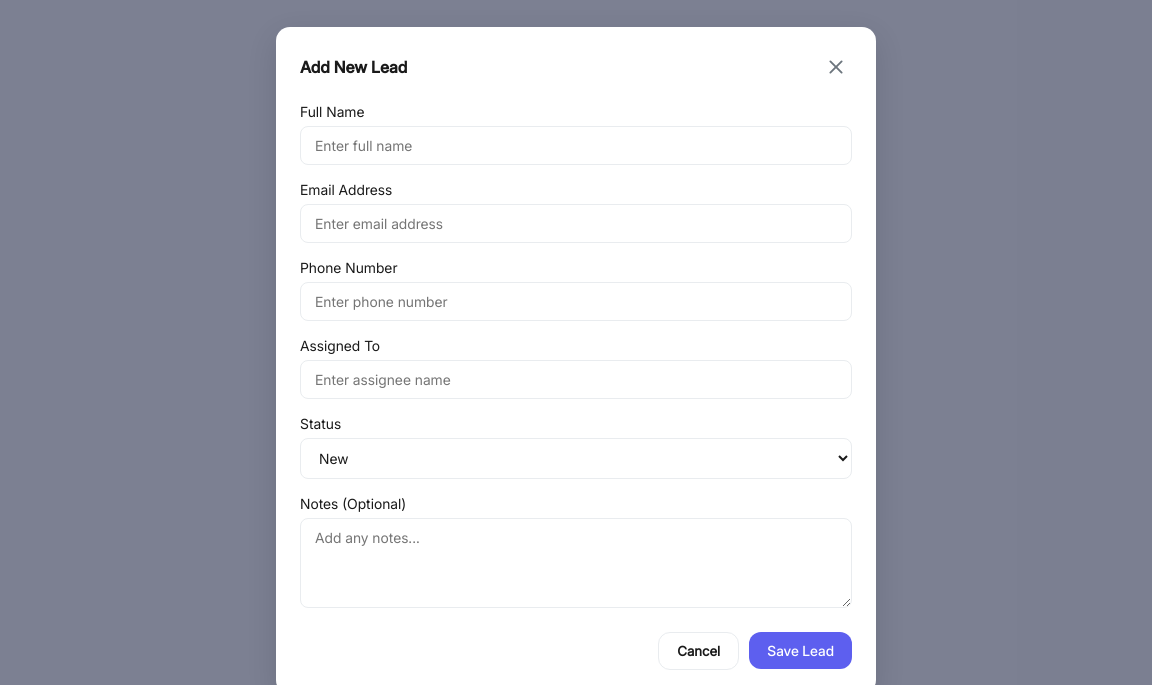
Scenario: the server message is shown when the lead is rejected, and the form stays open
This screenshot has width=1152, height=685.
Type "Ada Lovelace" into the field labelled "Full Name" at x=576, y=145, box [300,126,852,164]
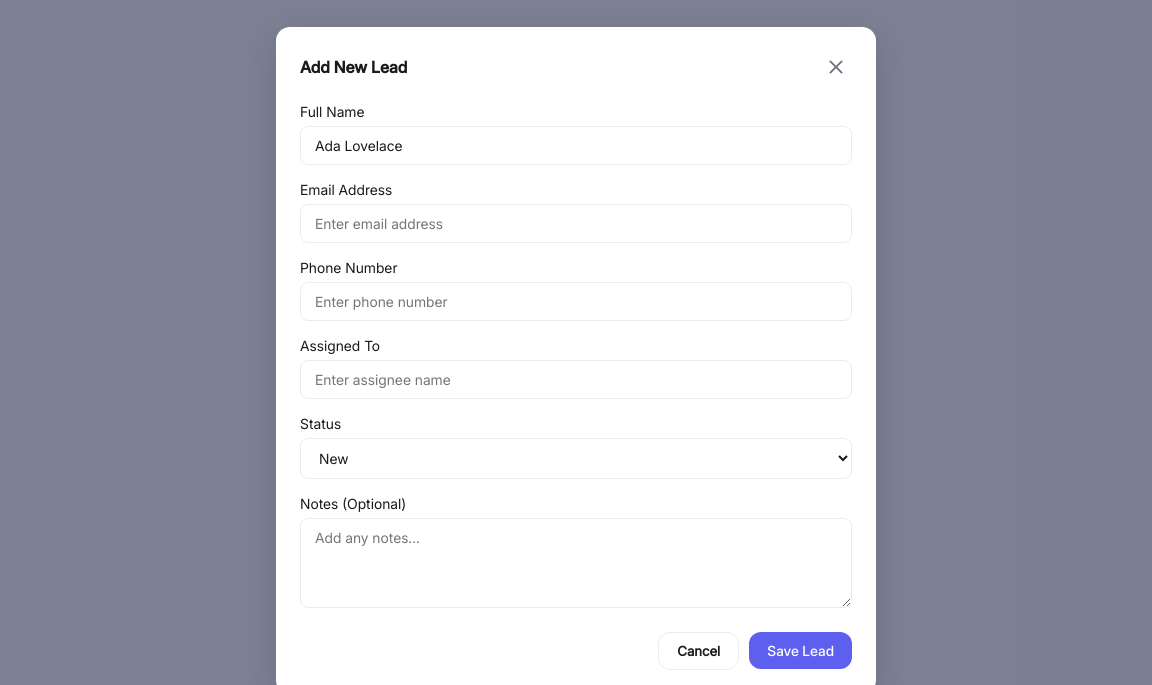
Type "ada@example.test" into the field labelled "Email Address" at x=576, y=223, box [300,204,852,242]
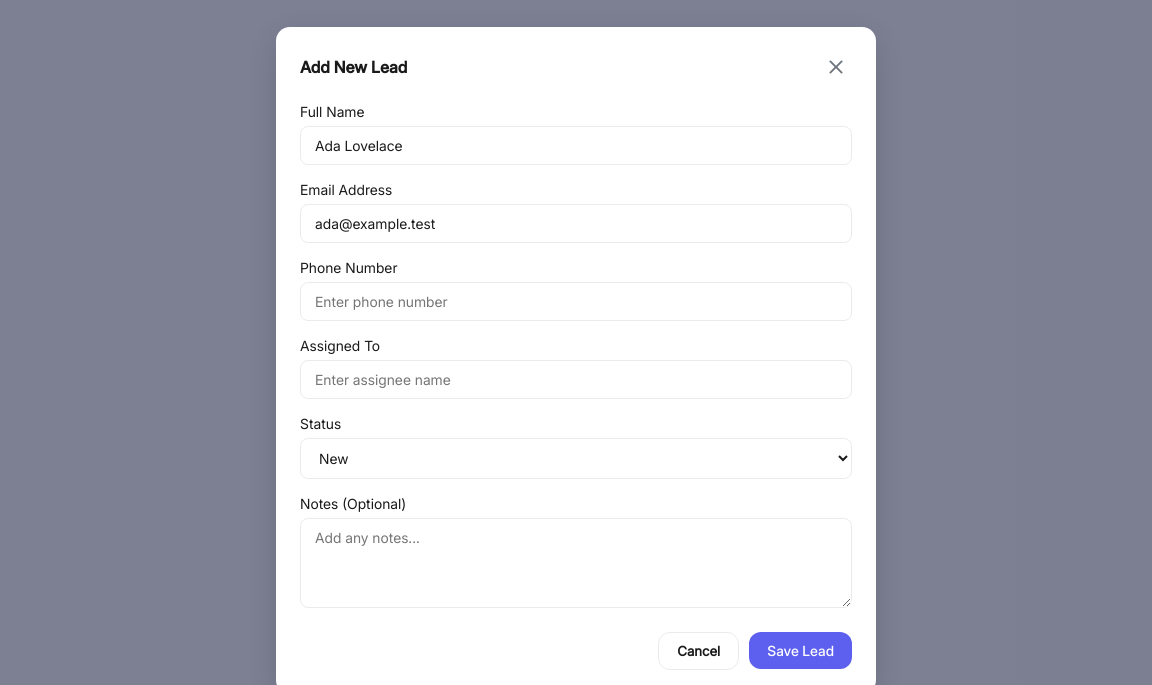
Type "0300" into the field labelled "Phone Number" at x=576, y=301, box [300,282,852,320]
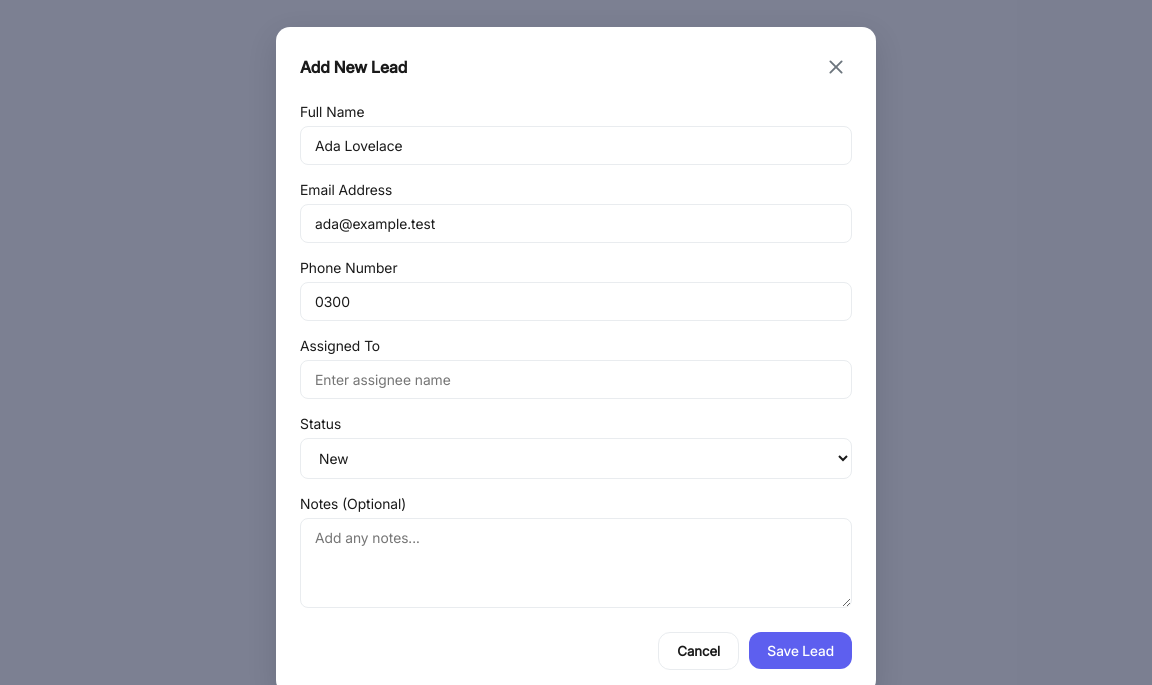
Type "Sam" into the field labelled "Assigned To" at x=576, y=379, box [300,360,852,398]
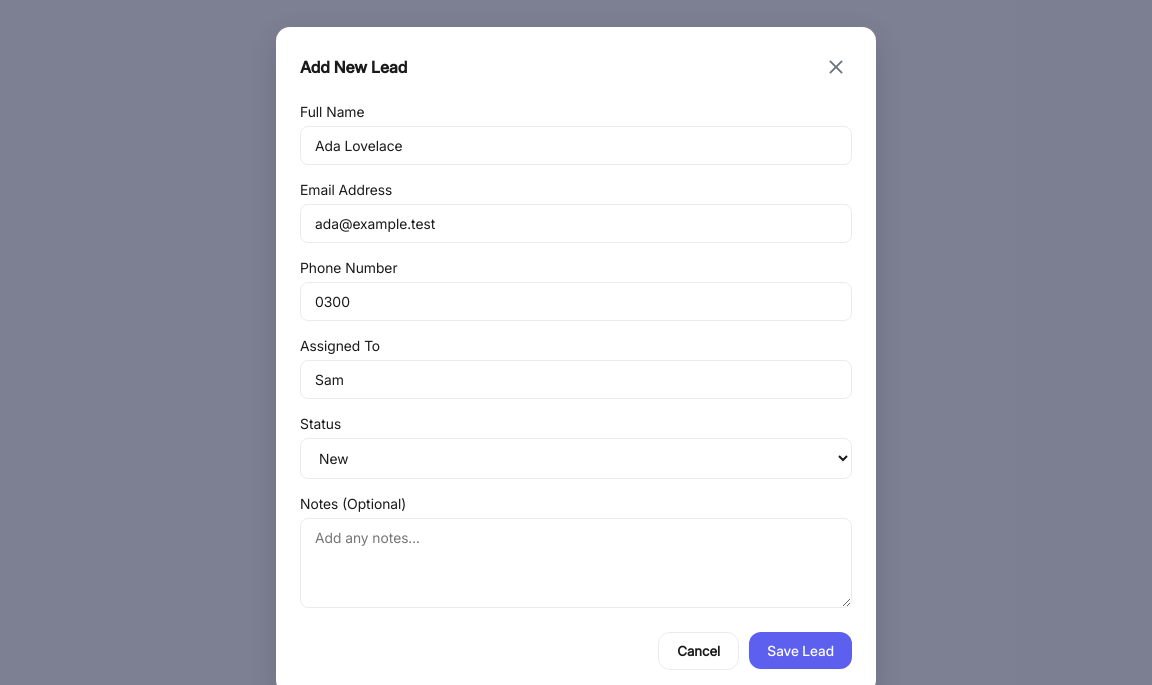
Click the button "Save Lead" at x=801, y=650, box [749,632,852,669]
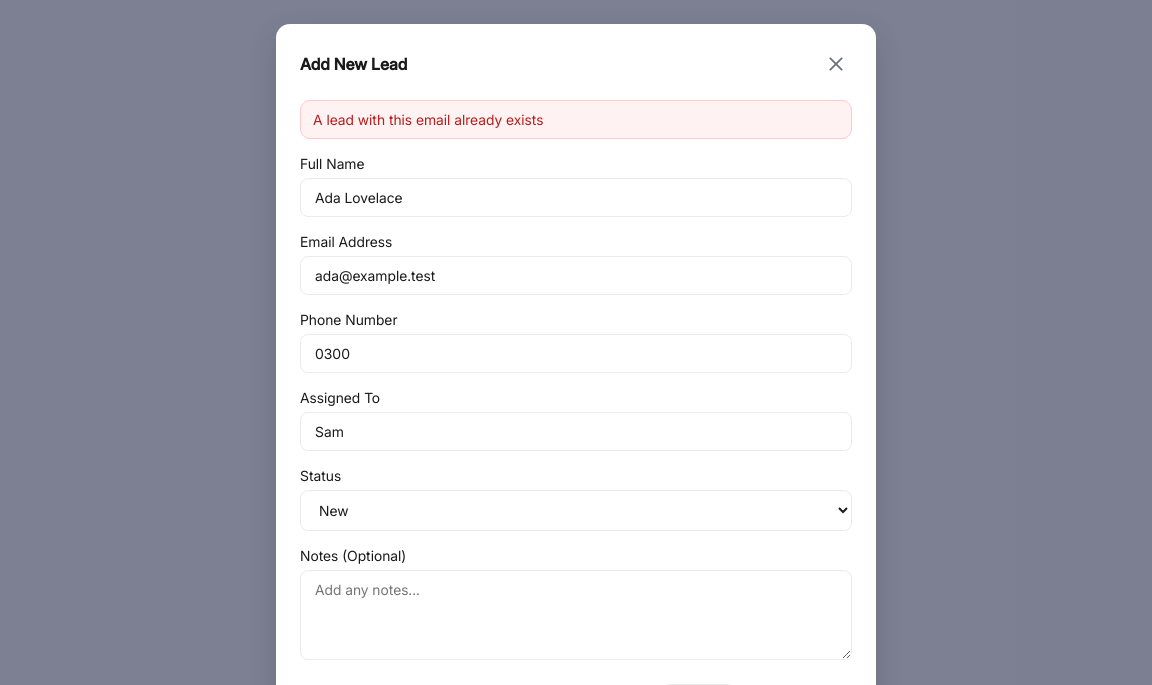
Expected: the message reads "A lead with this email already exists", [313,111,543,128]
